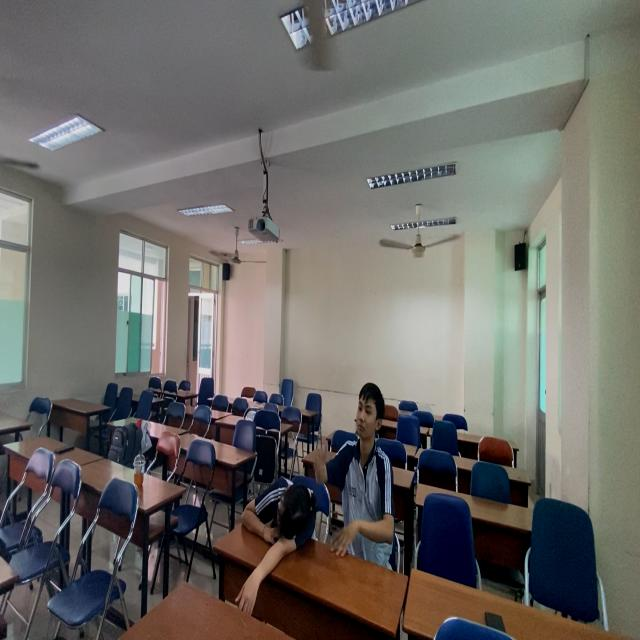sleep: (238, 470, 320, 559)
